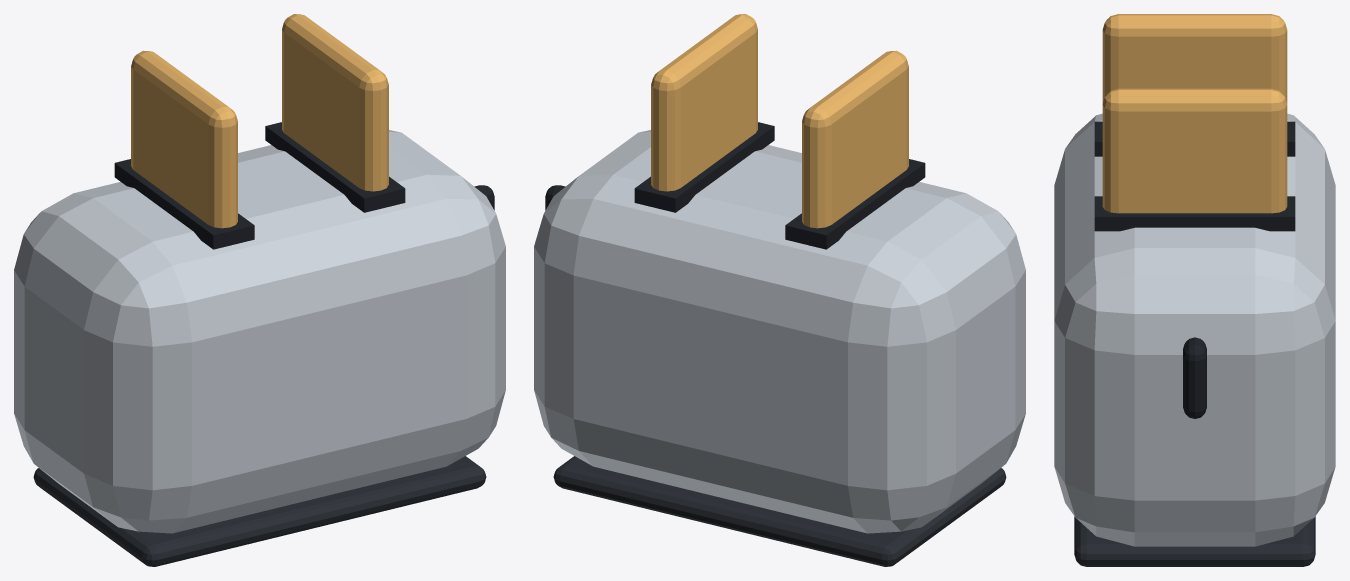
File: tostador.glb
3 views of the same model, side by side, from view 1: azimuth 30°, elevation 25°; view 2: azimuth 150°, elevation 25°; view 3: azimuth 270°, elevation 25° (orthographic).
Parts seen in each view (by area): view 1: Cube, pan, Cube.004, Cube.002, Cube.001; view 2: Cube, pan, Cube.004, Cube.002, Cube.001; view 3: Cube, pan, Cube.004, Cube.002, Cube.003, Cube.001.
Part boxes in pixels (left/top/right/bottom): Cube: left=14, top=130, right=505, bottom=533; pan: left=131, top=14, right=388, bottom=245; Cube.004: left=33, top=456, right=486, bottom=566; Cube.002: left=265, top=122, right=405, bottom=212; Cube.001: left=114, top=159, right=254, bottom=249; Cube: left=534, top=130, right=1025, bottom=533; pan: left=651, top=14, right=908, bottom=245; Cube.004: left=553, top=456, right=1006, bottom=566; Cube.002: left=634, top=122, right=774, bottom=212; Cube.001: left=785, top=159, right=925, bottom=249; Cube: left=1054, top=113, right=1335, bottom=546; pan: left=1102, top=14, right=1287, bottom=213; Cube.004: left=1074, top=516, right=1315, bottom=566; Cube.002: left=1094, top=196, right=1295, bottom=231; Cube.003: left=1183, top=337, right=1206, bottom=418; Cube.001: left=1094, top=121, right=1295, bottom=156.
Size of the model in its own units: 1.28 by 1.19 by 0.7.
